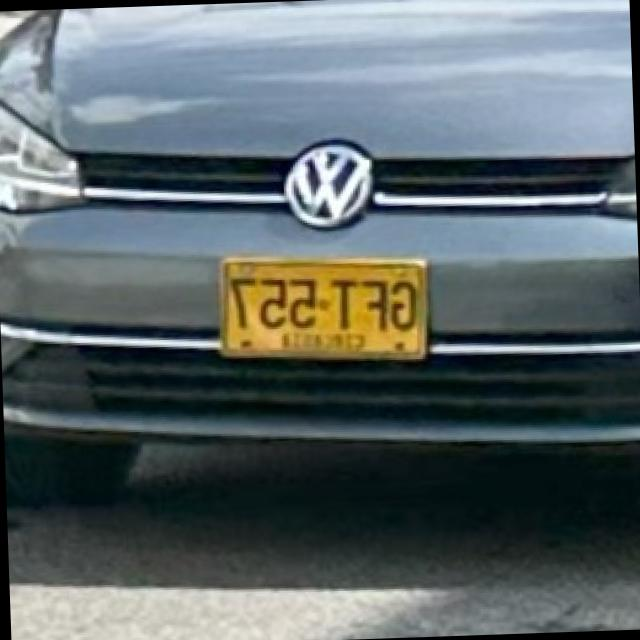number plate: (224, 255, 429, 356)
